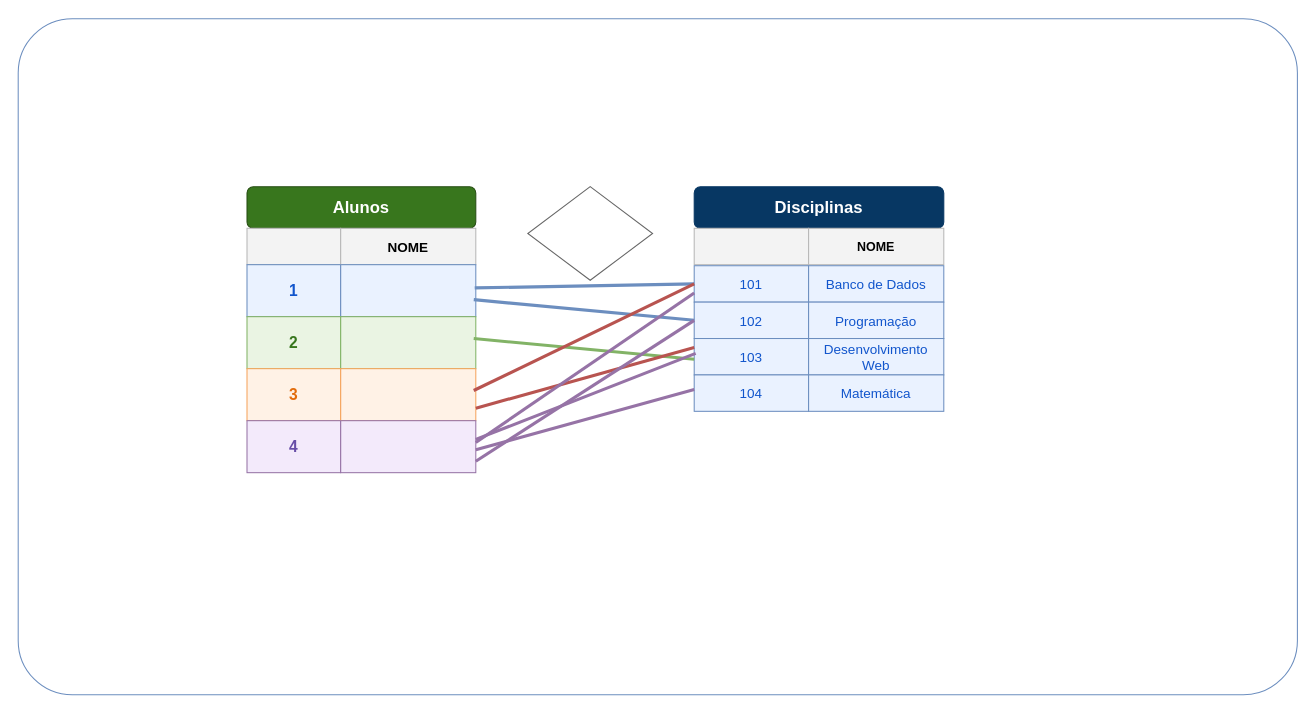
Some shapes in this 1316 by 712 pixel diagram are drawn without their labels. The shapes that lost their labels are listed below. From the top down, each one's box as (x1, y1, x2, y2) in pixels, then its label:
(246, 227, 341, 265): ID_CLIENTE
(527, 186, 653, 280): Cursa
(693, 227, 809, 265): ID_DISCIPLINA
(340, 264, 476, 317): Fulano
(340, 316, 476, 369): Ciclano
(340, 368, 476, 421): Beltrano
(340, 420, 476, 473): Felicia
